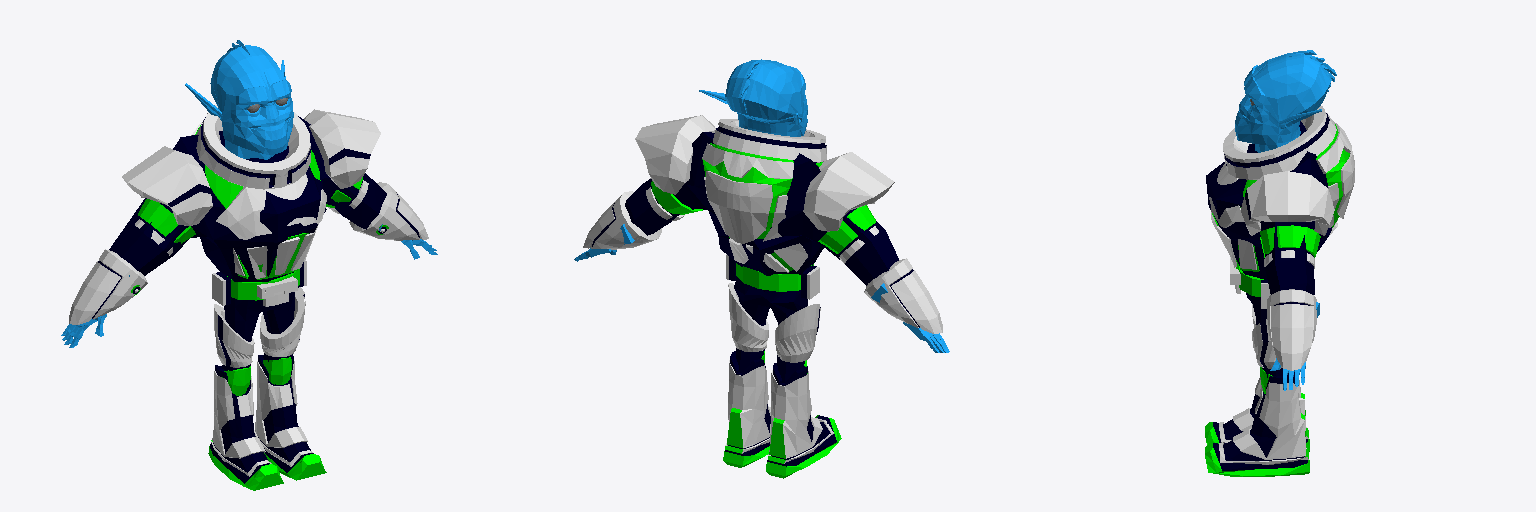
File: Aliene_OBJ.obj
3 views of the same model, side by side, from view 1: azimuth 30°, elevation 25°; view 2: azimuth 150°, elevation 25°; view 3: azimuth 270°, elevation 25° (orthographic).
Parts seen in each view (by area): view 1: outfit1 pCylinder7, outfit1 pPipe3 pPipe4, Head1, outfit1 polySurface36, outfit1 pPipe9 pPipe10, outfit1 polySurface31 polySurface32, outfit1 pPipe12 pPipe13, outfit1 polySurface34, outfit1 polySurface40, outfit1 polySurface38, outfit1 pPipe5 pPipe6, outfit1 pPipe15 pPipe16 (+9 smaller); view 2: outfit1 pCylinder7, outfit1 pPipe3 pPipe4, outfit1 polySurface31 polySurface32, Head1, outfit1 pPipe9 pPipe10, outfit1 pPipe12 pPipe13, outfit1 polySurface18, outfit1 polySurface36, outfit1 polySurface34, outfit1 pPipe5 pPipe6, outfit1 polySurface19, outfit1 polySurface37 (+9 smaller); view 3: Head1, outfit1 pCylinder7, outfit1 pPipe3 pPipe4, outfit1 polySurface31 polySurface32, outfit1 polySurface36, outfit1 pPipe9 pPipe10, outfit1 polySurface38, outfit1 pPipe5 pPipe6, outfit1 polySurface39, outfit1 pPipe12 pPipe13, outfit1 polySurface19, outfit1 polySurface18 (+1 smaller).
Boxes of the visible parts, x1,y1,x2,y2 form: outfit1 pCylinder7: [109, 116, 386, 281]; outfit1 pPipe3 pPipe4: [122, 109, 380, 225]; Head1: [185, 45, 293, 159]; outfit1 polySurface36: [196, 104, 326, 239]; outfit1 pPipe9 pPipe10: [69, 182, 428, 324]; outfit1 polySurface31 polySurface32: [211, 361, 312, 476]; outfit1 pPipe12 pPipe13: [214, 287, 305, 367]; outfit1 polySurface34: [222, 292, 294, 392]; outfit1 polySurface40: [210, 365, 269, 483]; outfit1 polySurface38: [258, 354, 313, 472]; outfit1 pPipe5 pPipe6: [138, 177, 362, 243]; outfit1 pPipe15 pPipe16: [222, 357, 291, 395]; outfit1 pCylinder7: [625, 132, 898, 285]; outfit1 pPipe3 pPipe4: [635, 115, 894, 231]; outfit1 polySurface31 polySurface32: [725, 360, 833, 463]; Head1: [699, 59, 807, 136]; outfit1 pPipe9 pPipe10: [583, 191, 942, 333]; outfit1 pPipe12 pPipe13: [728, 283, 820, 362]; outfit1 polySurface18: [705, 171, 772, 243]; outfit1 polySurface36: [713, 119, 826, 162]; outfit1 polySurface34: [734, 277, 807, 382]; outfit1 pPipe5 pPipe6: [651, 181, 875, 253]; outfit1 polySurface19: [702, 143, 793, 178]; outfit1 polySurface37: [702, 143, 793, 271]; Head1: [1235, 51, 1331, 152]; outfit1 pCylinder7: [1206, 121, 1331, 294]; outfit1 pPipe3 pPipe4: [1241, 171, 1334, 235]; outfit1 polySurface31 polySurface32: [1219, 377, 1308, 464]; outfit1 polySurface36: [1209, 106, 1336, 227]; outfit1 pPipe9 pPipe10: [1267, 289, 1316, 370]; outfit1 polySurface38: [1213, 372, 1307, 470]; outfit1 pPipe5 pPipe6: [1260, 225, 1320, 257]; outfit1 polySurface39: [1205, 443, 1309, 476]; outfit1 pPipe12 pPipe13: [1252, 304, 1282, 368]; outfit1 polySurface19: [1316, 121, 1351, 173]; outfit1 polySurface18: [1337, 151, 1354, 218].
Size of the model in its own units: 15.02 by 15.88 by 5.29.